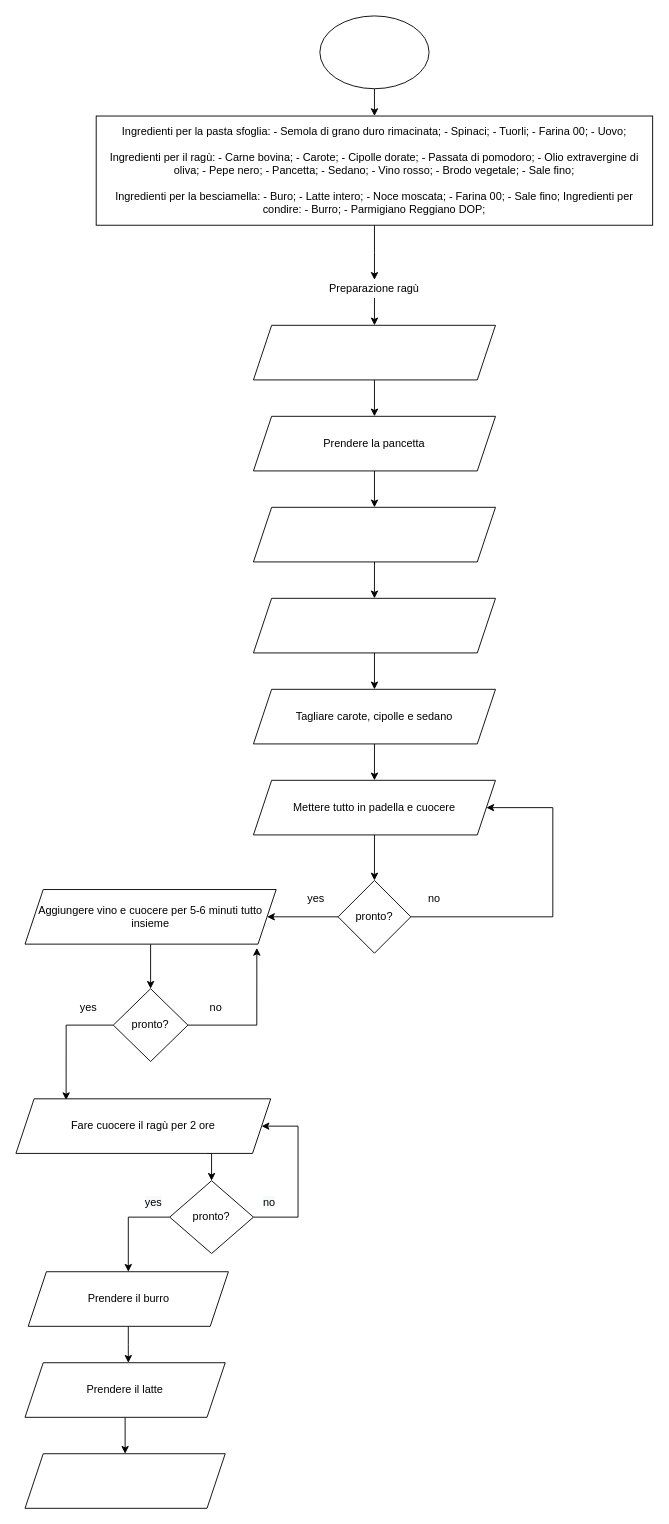
This 669x1524 diagram has some shape labels left out. Each missing label, with the centre of its shape:
"Mescolare il burro ed il latte" belongs at [124,1480].
"Prendere il coltello" belongs at [374,534].
"Prendi padella e prepara il brodo vegetale" belongs at [374,352].
"START" belongs at [374,52].
"Taliare la pancetta con il coltello" belongs at [374,625].
